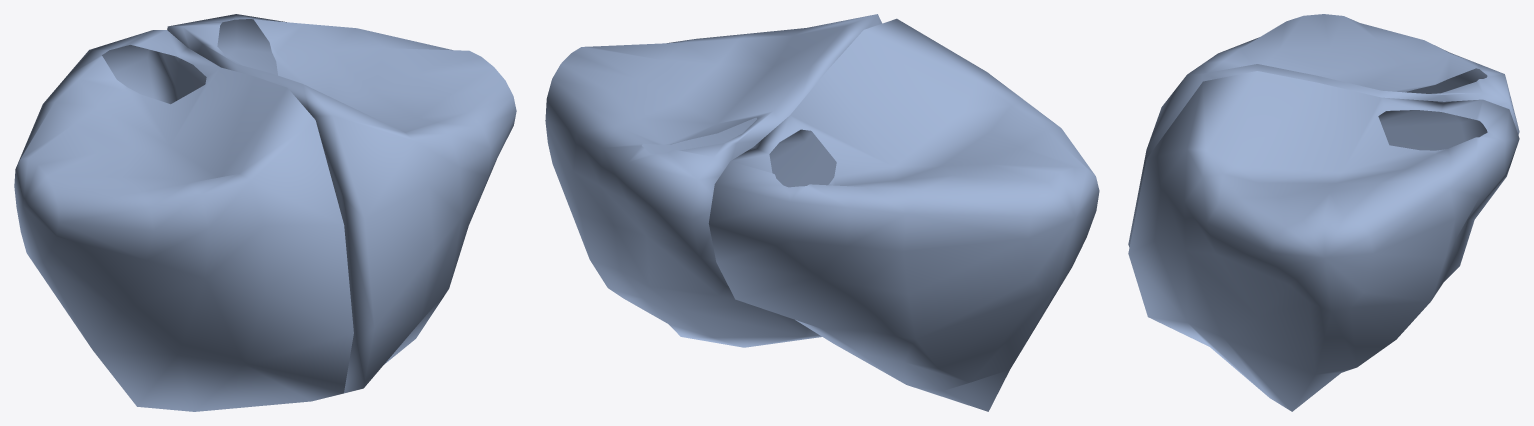
3 views of the same model, side by side, from view 1: azimuth 30°, elevation 25°; view 2: azimuth 150°, elevation 25°; view 3: azimuth 270°, elevation 25° (orthographic). The views are drawn at different scales.
Visible parts, largest first — view 1: 蝶窦; view 2: 蝶窦; view 3: 蝶窦.
Part boxes in pixels (<box>): 蝶窦: <box>14,14,516,411</box>; 蝶窦: <box>545,14,1099,411</box>; 蝶窦: <box>1128,14,1519,411</box>.
Bounding box in the file's own units: 0.0416 × 0.0259 × 0.0319.
